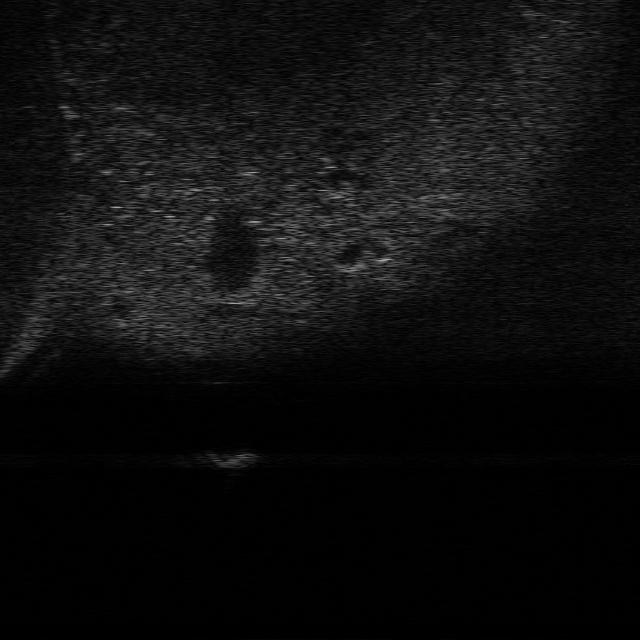cube: (206, 444, 255, 472)
